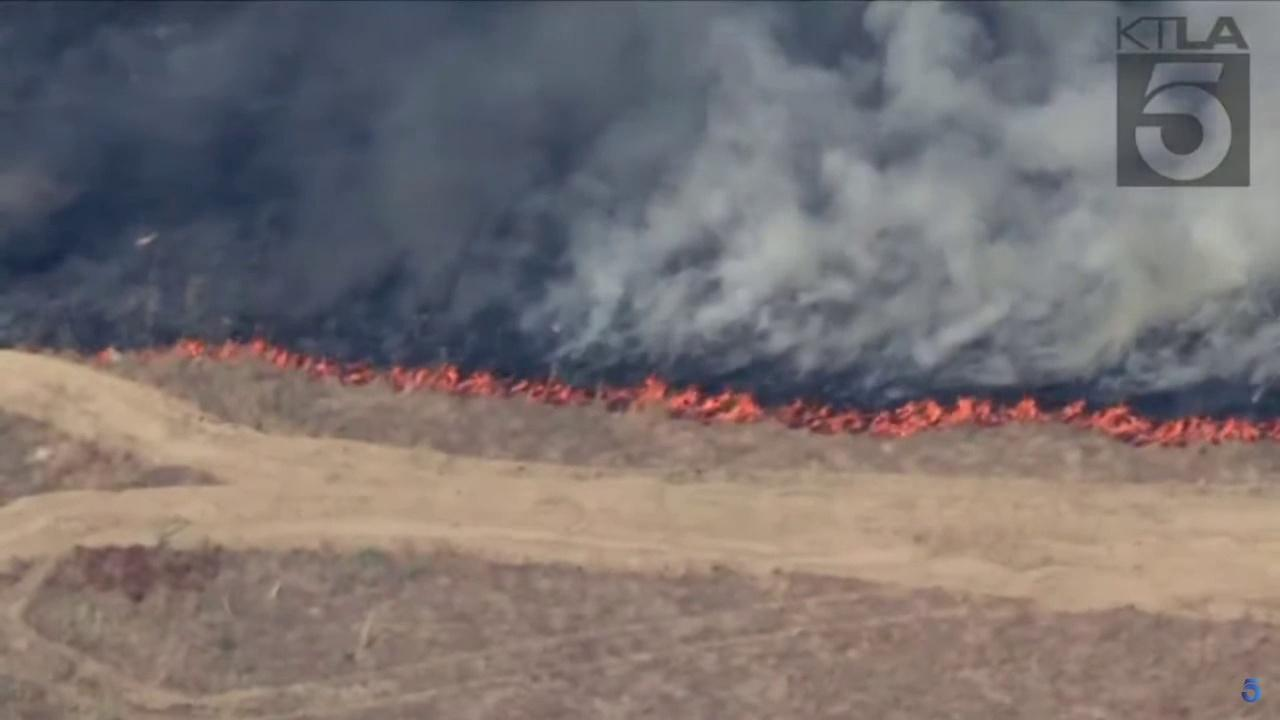fire: (173, 336, 1280, 450), (97, 343, 116, 365)
smoke: (0, 0, 1280, 411)
